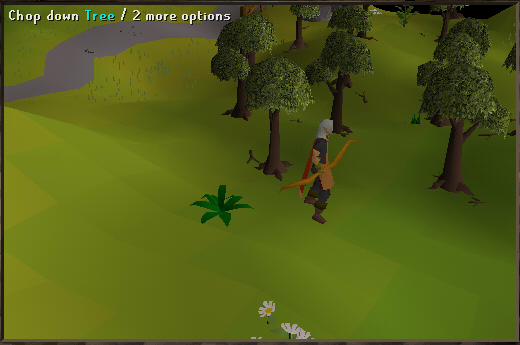Tree: (429, 53, 499, 207), (247, 52, 311, 176), (204, 17, 260, 128), (310, 19, 357, 133)
